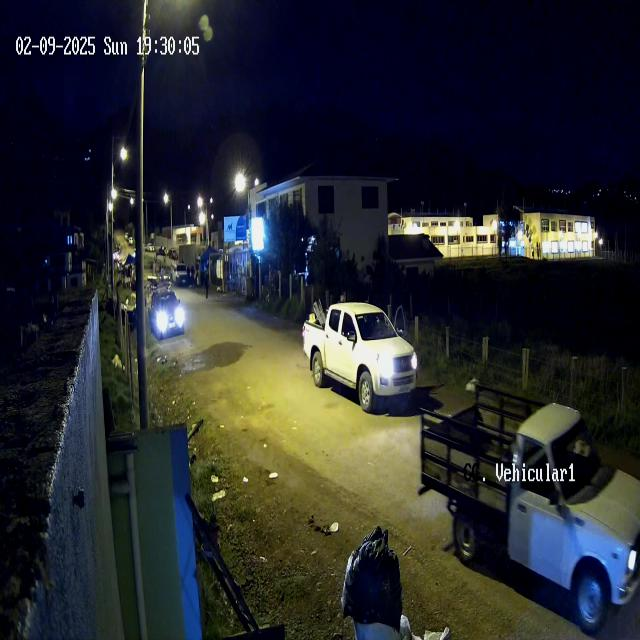CMT: (419, 380, 640, 618), (302, 300, 418, 412)
